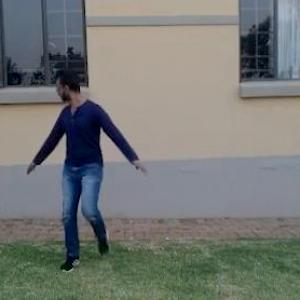land: (17, 54, 146, 276)
